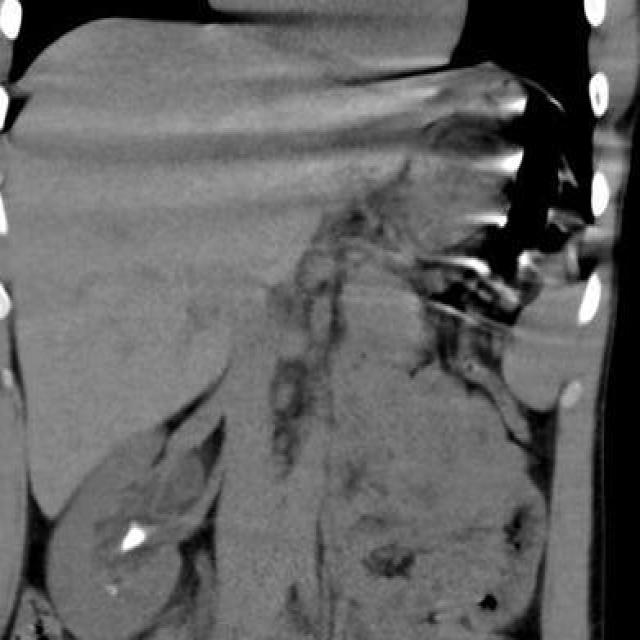Tas_Var: (119, 518, 151, 554), (103, 582, 120, 598)
